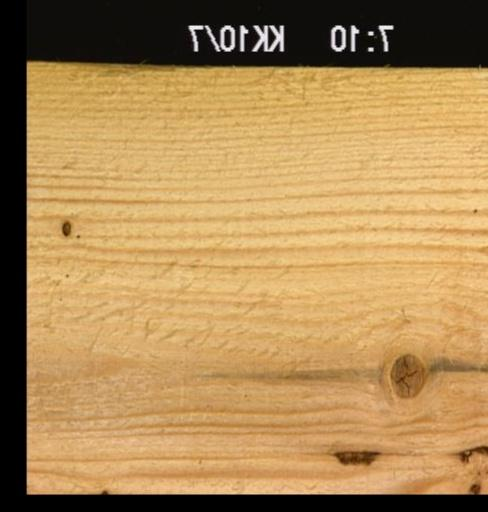dry_knot: (60, 217, 71, 238)
sound_knot: (390, 351, 424, 396)
